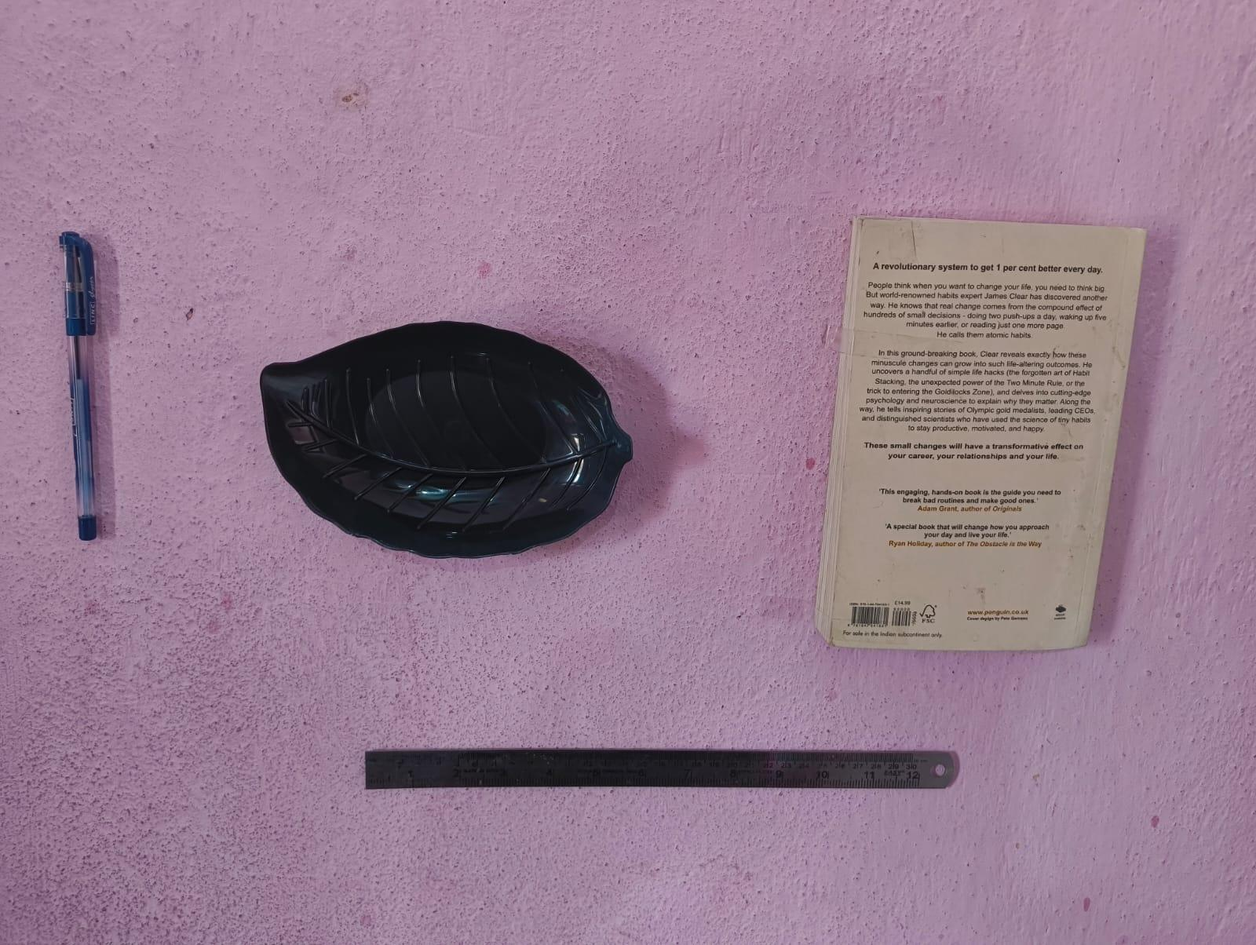Book: (827, 206, 1154, 666)
pen: (46, 228, 120, 550)
plate: (259, 319, 644, 560)
scale: (358, 732, 981, 799)
